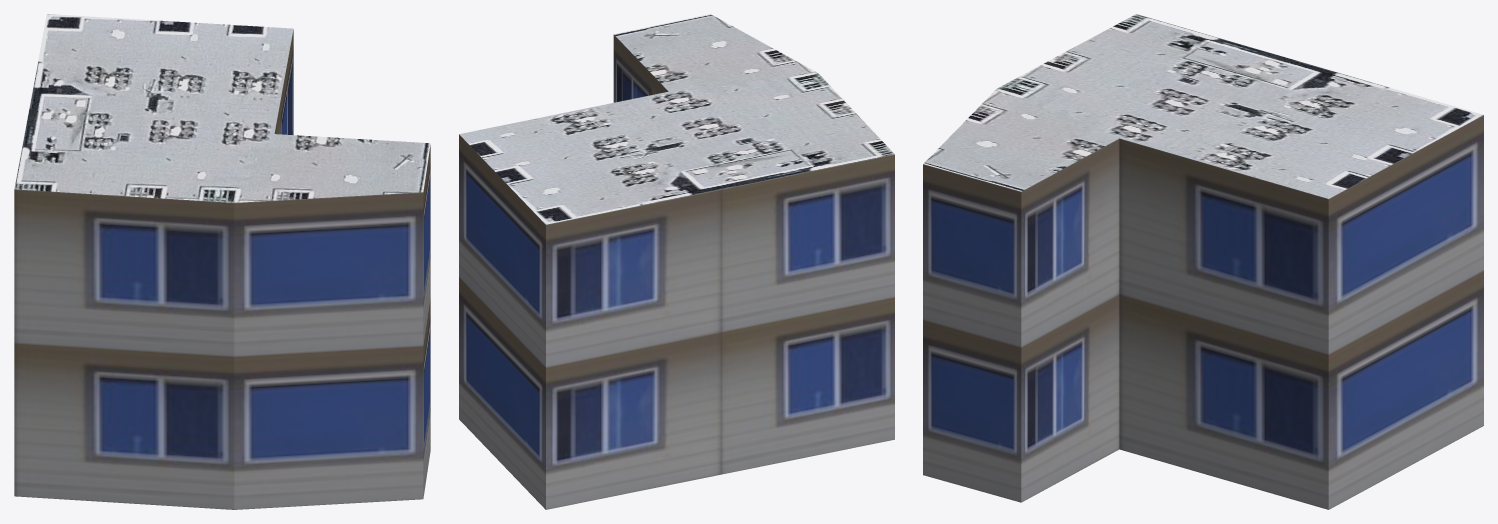
The model's file is ResTex__4816.fbx.
The picture shows the model from 3 angles, left to right: view 1: azimuth 30°, elevation 25°; view 2: azimuth 150°, elevation 25°; view 3: azimuth 270°, elevation 25°; orthographic projection. The views are drawn at different scales.
Parts seen in each view (by area): view 1: CityEngineMaterial_23_m, CityEngineMaterial_2_m; view 2: CityEngineMaterial_23_m, CityEngineMaterial_2_m; view 3: CityEngineMaterial_23_m, CityEngineMaterial_2_m.
Part boxes in pixels (x1,y1,x2,y2): CityEngineMaterial_23_m: (14,29,430,509); CityEngineMaterial_2_m: (14,14,430,202); CityEngineMaterial_23_m: (459,34,894,509); CityEngineMaterial_2_m: (459,14,894,224); CityEngineMaterial_23_m: (923,115,1483,509); CityEngineMaterial_2_m: (923,14,1482,198).
Size of the model in its own units: 7.65 by 6 by 9.8.
2 materials, 2 textured.
